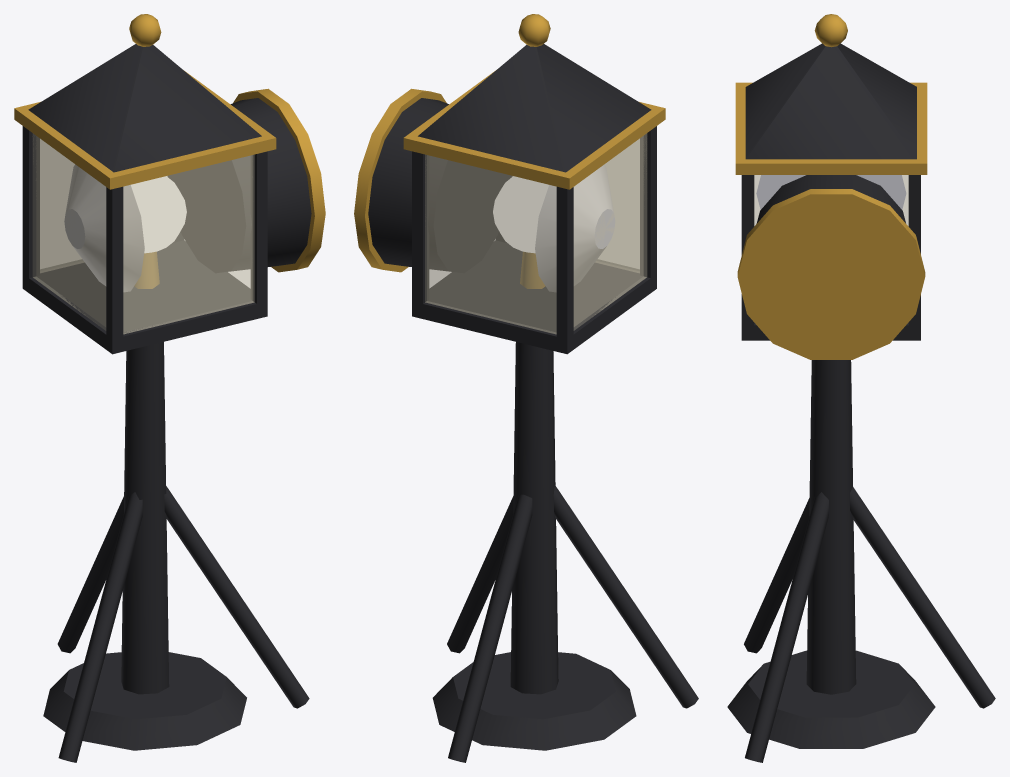
Rendered from mount-lantern.glb.
The picture shows the model from 3 angles, left to right: view 1: azimuth 30°, elevation 25°; view 2: azimuth 150°, elevation 25°; view 3: azimuth 270°, elevation 25°; orthographic projection.
Parts seen in each view (by area): view 1: Mesh_PaneS, Mesh_CageRoof, Mesh_Post, Mesh_CageFloor, Mesh_Hood, Mesh_Foot, Mesh_PaneA, Mesh_Leg1, Mesh_Reflector, Mesh_RoofRim, Mesh_Leg0, Mesh_PaneP (+8 smaller); view 2: Mesh_PaneP, Mesh_CageRoof, Mesh_Post, Mesh_CageFloor, Mesh_Hood, Mesh_Foot, Mesh_PaneA, Mesh_Leg2, Mesh_RoofRim, Mesh_Reflector, Mesh_Leg1, Mesh_PaneS (+8 smaller); view 3: Mesh_HoodRim, Mesh_CageRoof, Mesh_Post, Mesh_Foot, Mesh_Leg0, Mesh_RoofRim, Mesh_Leg2, Mesh_Leg1, Mesh_Hood, Mesh_Reflector, Mesh_BarFS, Mesh_BarFP (+3 smaller).
Part boxes in pixels (x1,y1,x2,y2): Mesh_PaneS: (123,155,254,334); Mesh_CageRoof: (28,44,261,172); Mesh_Post: (121,342,169,694); Mesh_CageFloor: (22,240,267,354); Mesh_Hood: (168,98,311,272); Mesh_Foot: (43,652,246,750); Mesh_PaneA: (32,134,106,330); Mesh_Leg1: (58,492,142,762); Mesh_Reflector: (64,164,144,291); Mesh_RoofRim: (14,71,276,189); Mesh_Leg0: (164,486,309,708); Mesh_PaneP: (40,139,167,272); Mesh_PaneP: (425,155,556,334); Mesh_CageRoof: (418,44,651,172); Mesh_Post: (510,342,558,694); Mesh_CageFloor: (412,240,656,354); Mesh_Hood: (368,98,511,272); Mesh_Foot: (432,652,636,750); Mesh_PaneA: (573,133,647,330); Mesh_Leg2: (448,494,532,762); Mesh_RoofRim: (403,70,665,189); Mesh_Reflector: (535,164,615,291); Mesh_Leg1: (553,485,698,708); Mesh_PaneS: (512,139,639,272); Mesh_HoodRim: (737,189,925,359); Mesh_CageRoof: (745,43,916,159); Mesh_Post: (806,360,856,694); Mesh_Foot: (727,650,935,748); Mesh_Leg0: (745,492,828,762); Mesh_RoofRim: (735,82,927,174); Mesh_Leg2: (850,487,995,708); Mesh_Leg1: (744,498,809,653); Mesh_Hood: (756,175,905,223); Mesh_Reflector: (756,175,906,209); Mesh_BarFS: (741,175,754,332); Mesh_BarFP: (908,175,920,331).
Size of the model in its own units: 1.42 by 3.66 by 1.29.
